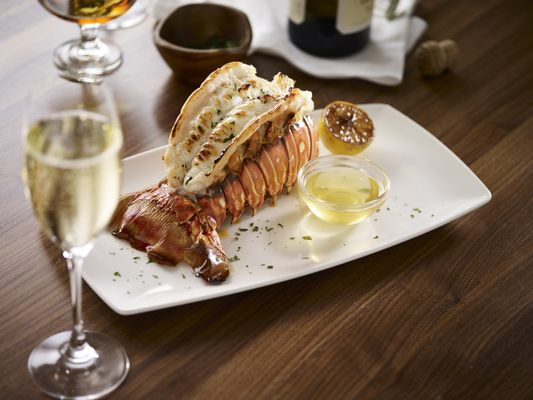soup: (162, 59, 316, 225), (111, 180, 232, 283)
sushi: (150, 1, 254, 86), (297, 155, 390, 227)
